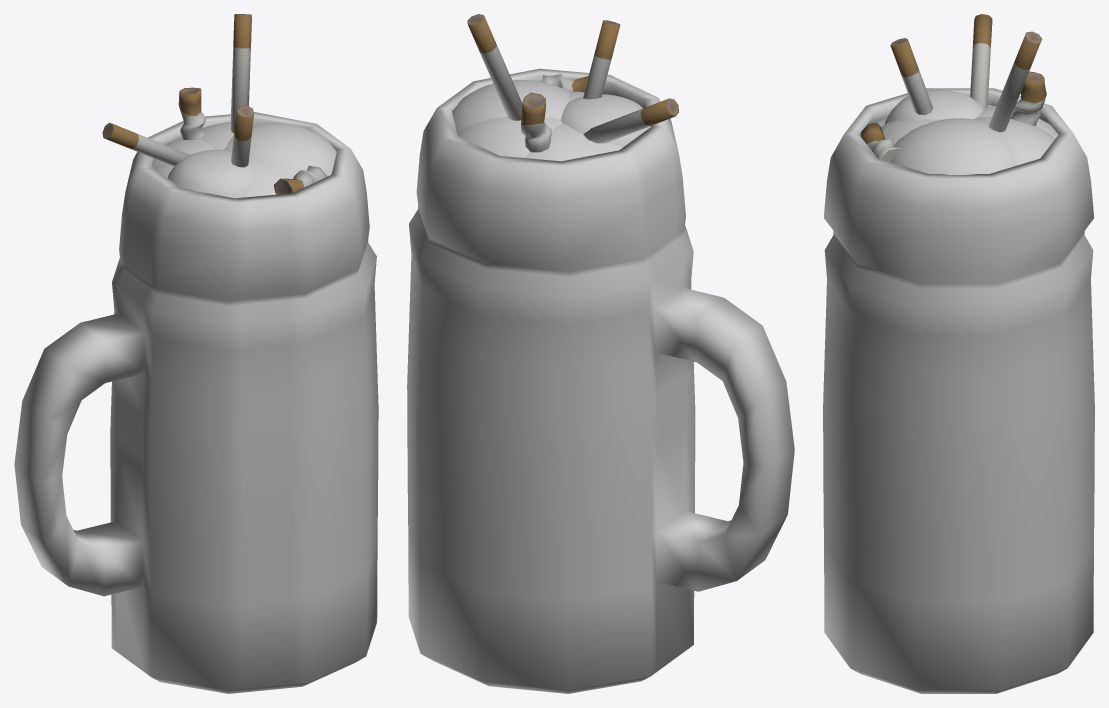
Rendered from biere_clope_final.fbx.
3 views of the same model, side by side, from view 1: azimuth 30°, elevation 25°; view 2: azimuth 150°, elevation 25°; view 3: azimuth 270°, elevation 25° (orthographic). The views are drawn at different scales.
Parts seen in each view (by area): view 1: Liquid.005, solo_cigarette_eclate.006, solo_cigarette_eclate.008, solo_cigarette.004, solo_cigarette_eclate.007, solo_cigarette.005; view 2: Liquid.005, solo_cigarette_eclate.006, solo_cigarette_eclate.008, solo_cigarette_eclate.007, solo_cigarette.004; view 3: Liquid.005, solo_cigarette_eclate.006, solo_cigarette_eclate.008, solo_cigarette_eclate.007, solo_cigarette.004, solo_cigarette.005.
Part boxes in pixels (<box>): Liquid.005: <box>14,112,378,693</box>; solo_cigarette_eclate.006: <box>230,14,251,132</box>; solo_cigarette_eclate.008: <box>102,122,189,166</box>; solo_cigarette.004: <box>178,87,206,140</box>; solo_cigarette_eclate.007: <box>231,105,253,167</box>; solo_cigarette.005: <box>274,165,327,194</box>; Liquid.005: <box>407,68,794,693</box>; solo_cigarette_eclate.006: <box>467,14,522,120</box>; solo_cigarette_eclate.008: <box>583,98,678,143</box>; solo_cigarette_eclate.007: <box>583,20,620,99</box>; solo_cigarette.004: <box>521,92,551,152</box>; Liquid.005: <box>823,88,1094,693</box>; solo_cigarette_eclate.006: <box>988,31,1041,132</box>; solo_cigarette_eclate.008: <box>970,14,992,108</box>; solo_cigarette_eclate.007: <box>890,38,932,114</box>; solo_cigarette.004: <box>1010,71,1046,125</box>; solo_cigarette.005: <box>860,123,900,161</box>.
Bounding box in the file's own units: 321 × 562 × 219.
